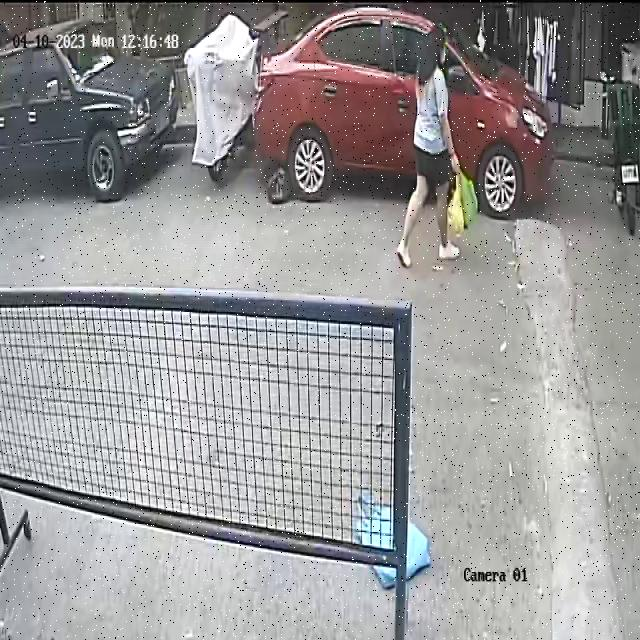human: (396, 23, 479, 272)
trash: (354, 478, 432, 588), (446, 160, 481, 239)
